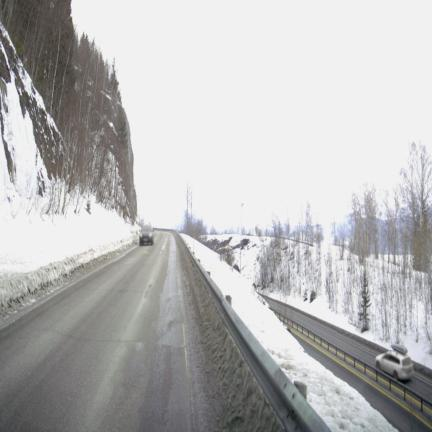Road: (0, 232, 221, 430)
